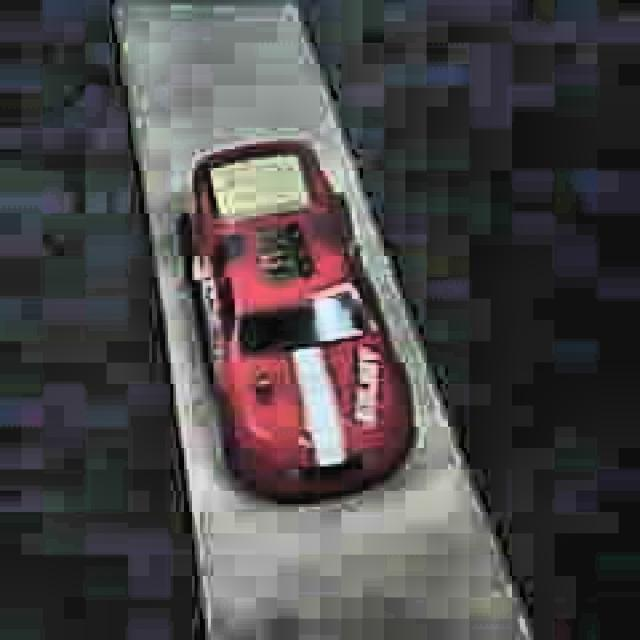car: (176, 136, 422, 509)
